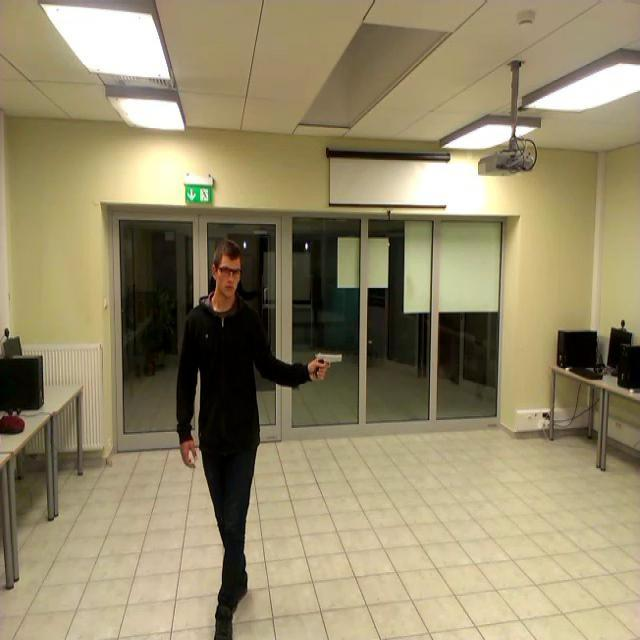weapon: (312, 353, 342, 382)
